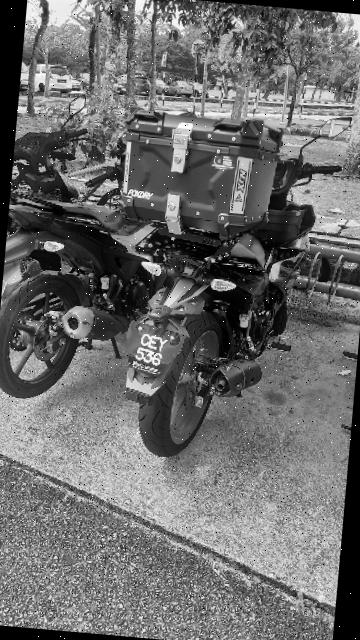License_Plate: (117, 313, 191, 383)
motorcycle: (77, 96, 353, 471)
